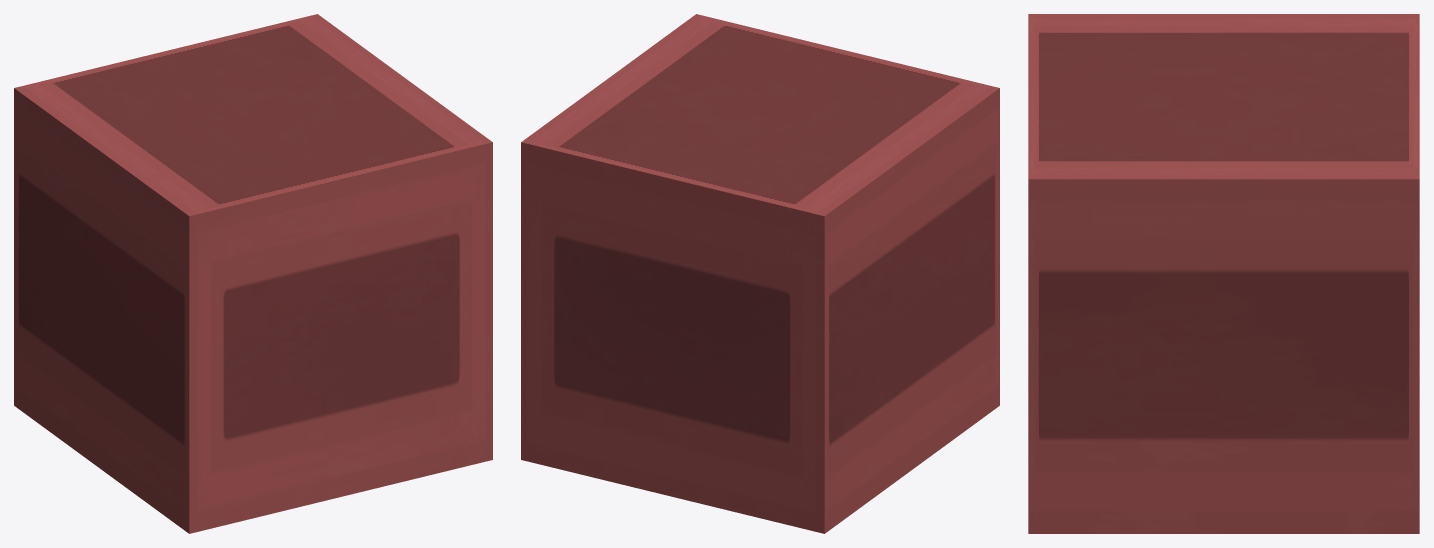
File: ScalableMesh_Ground__7.fbx
3 renders of one model, left to right at view 1: azimuth 30°, elevation 25°; view 2: azimuth 150°, elevation 25°; view 3: azimuth 270°, elevation 25°, orthographic. The views are drawn at different scales.
Visible parts, largest first — view 1: MAT_ScalableMesh_03 2; view 2: MAT_ScalableMesh_03 2; view 3: MAT_ScalableMesh_03 2.
Part boxes in pixels (left/top/right/bottom): MAT_ScalableMesh_03 2: left=14, top=14, right=492, bottom=533; MAT_ScalableMesh_03 2: left=521, top=14, right=999, bottom=533; MAT_ScalableMesh_03 2: left=1028, top=14, right=1419, bottom=533.
Size of the model in its own units: 1 by 1 by 1.
1 material, 1 textured.
